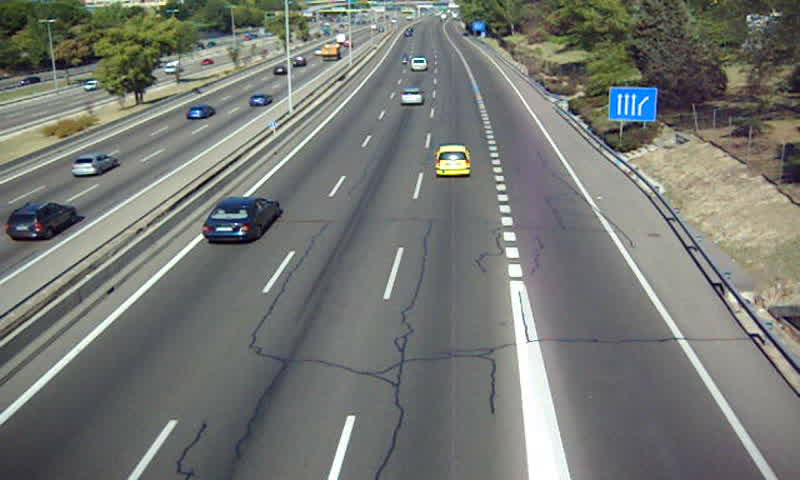car: (200, 198, 281, 239), (433, 145, 472, 177), (401, 87, 424, 106), (410, 57, 428, 73)
